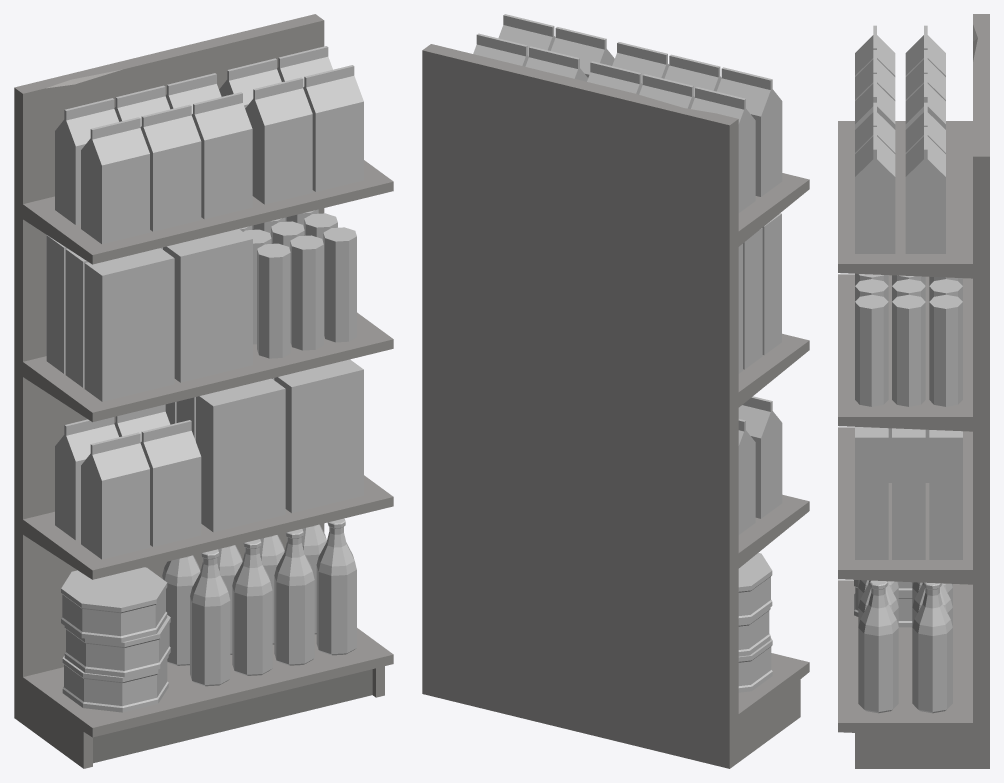
File: SM_Props_Interior_SuperMarket_Shelves_Small_Preset_02.fbx
3 renders of one model, left to right at view 1: azimuth 30°, elevation 25°; view 2: azimuth 150°, elevation 25°; view 3: azimuth 270°, elevation 25°, orthographic. The views are drawn at different scales.
Visible parts, largest first — view 1: SM_Props_Interior_SuperMarket_Shelves_Small_Preset_02_Produc, SM_Props_Interior_SuperMarket_Shelves_Small_Preset_02; view 2: SM_Props_Interior_SuperMarket_Shelves_Small_Preset_02, SM_Props_Interior_SuperMarket_Shelves_Small_Preset_02_Produc; view 3: SM_Props_Interior_SuperMarket_Shelves_Small_Preset_02_Produc, SM_Props_Interior_SuperMarket_Shelves_Small_Preset_02.
Part boxes in pixels (bbox=[...]): SM_Props_Interior_SuperMarket_Shelves_Small_Preset_02_Produc: bbox=[46, 46, 363, 712]; SM_Props_Interior_SuperMarket_Shelves_Small_Preset_02: bbox=[14, 14, 393, 768]; SM_Props_Interior_SuperMarket_Shelves_Small_Preset_02: bbox=[422, 44, 809, 768]; SM_Props_Interior_SuperMarket_Shelves_Small_Preset_02_Produc: bbox=[473, 14, 782, 692]; SM_Props_Interior_SuperMarket_Shelves_Small_Preset_02_Produc: bbox=[854, 25, 962, 713]; SM_Props_Interior_SuperMarket_Shelves_Small_Preset_02: bbox=[838, 14, 989, 768].
Size of the model in its own units: 100 by 200 by 45.
